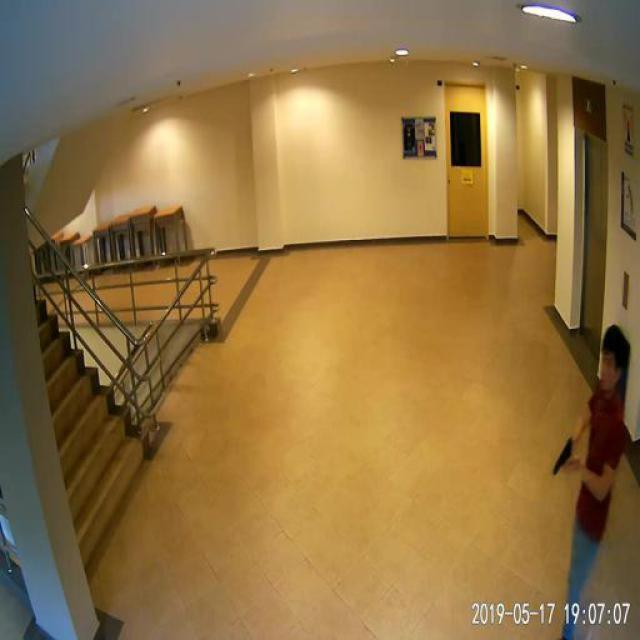weapon: (552, 438, 574, 476)
